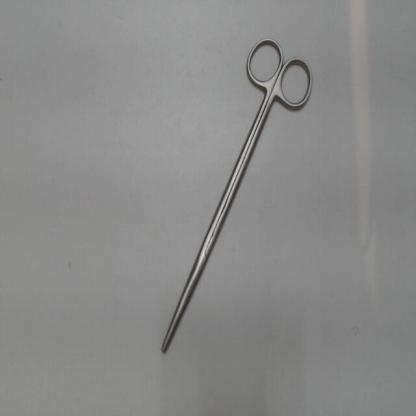9 Metzenbaum Scissors: (156, 28, 322, 361)
